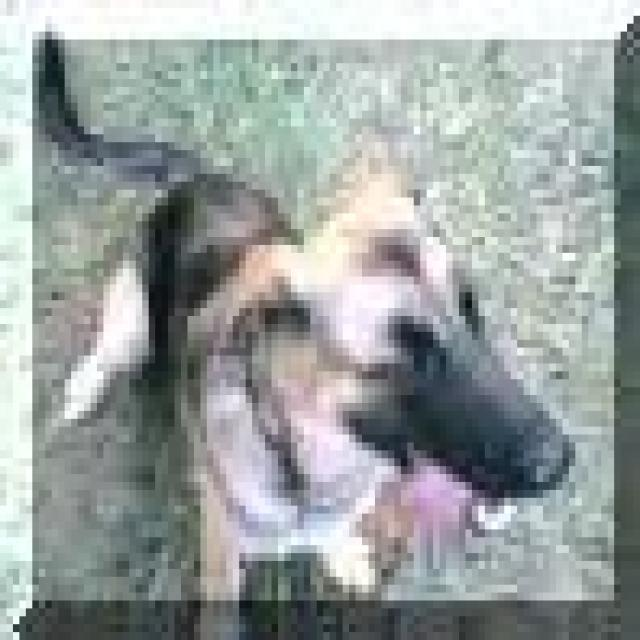dogs: (22, 10, 588, 640)
